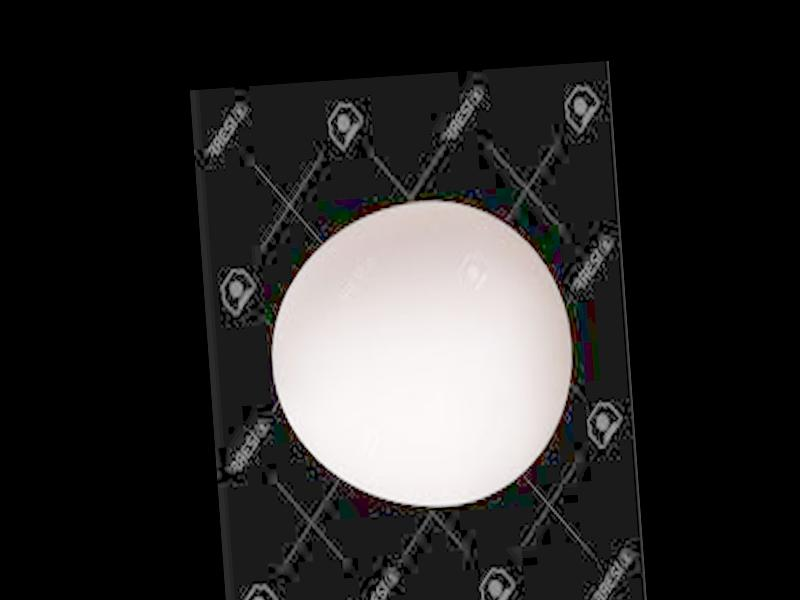Eggs: (264, 197, 579, 515)
